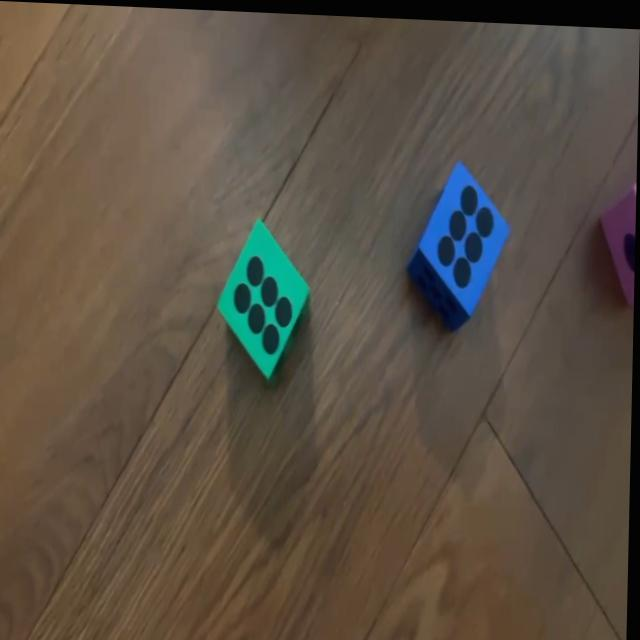blue_block: (405, 153, 512, 327)
